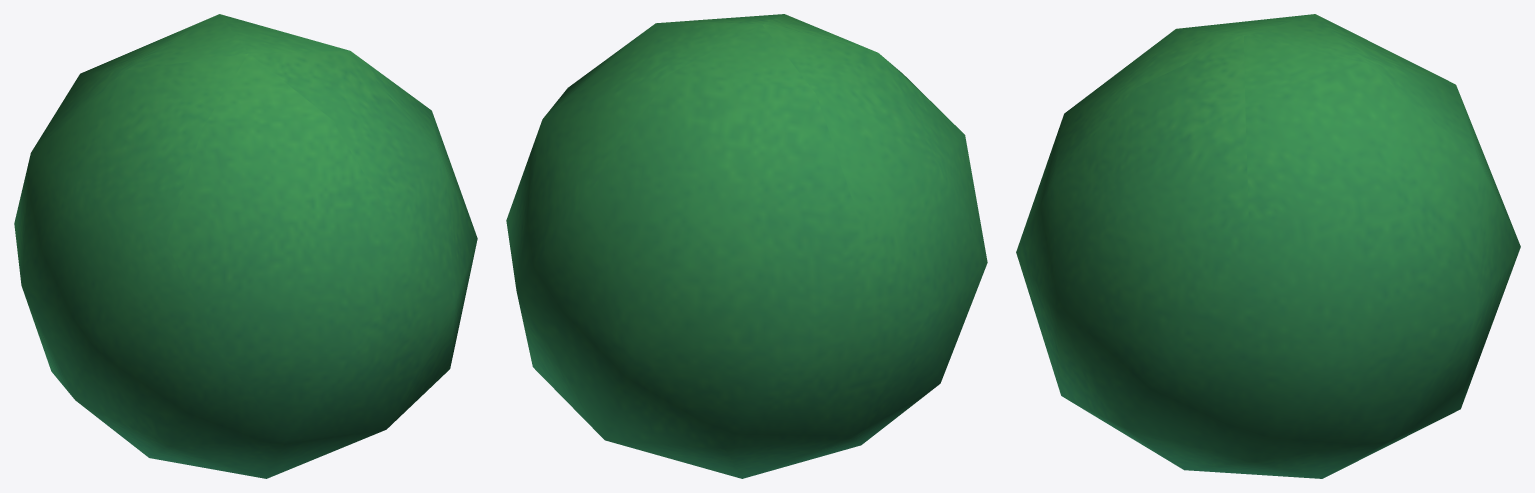
File: Bush_5.fbx
3 renders of one model, left to right at view 1: azimuth 30°, elevation 25°; view 2: azimuth 150°, elevation 25°; view 3: azimuth 270°, elevation 25°, orthographic. The views are drawn at different scales.
Parts seen in each view (by area): view 1: Icosphere.037; view 2: Icosphere.037; view 3: Icosphere.037.
Boxes of the visible parts, x1,y1,x2,y2 form: Icosphere.037: [14, 14, 477, 478]; Icosphere.037: [506, 14, 987, 478]; Icosphere.037: [1016, 14, 1520, 478].
Size of the model in its own units: 114 by 111 by 121.
1 material, 1 textured.
